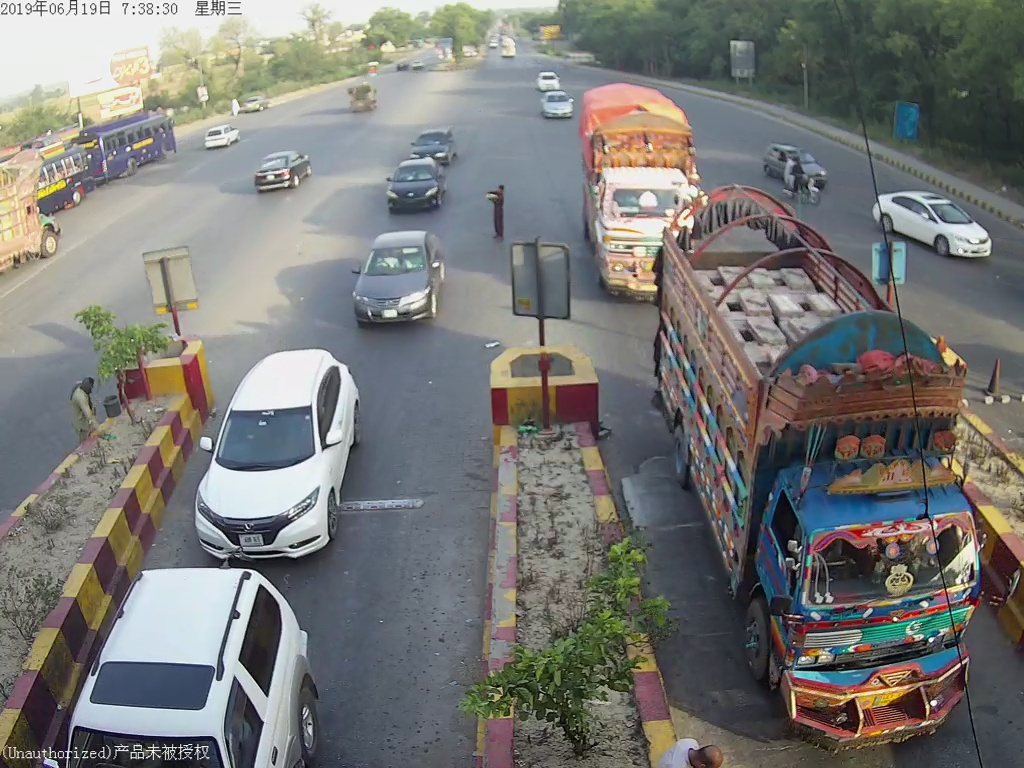Cat-1: (186, 339, 358, 554), (876, 182, 997, 268), (351, 231, 452, 322), (386, 160, 451, 220), (762, 140, 830, 187), (409, 124, 459, 161), (538, 87, 580, 122)
Cat-4: (664, 195, 972, 731), (576, 84, 700, 303)
